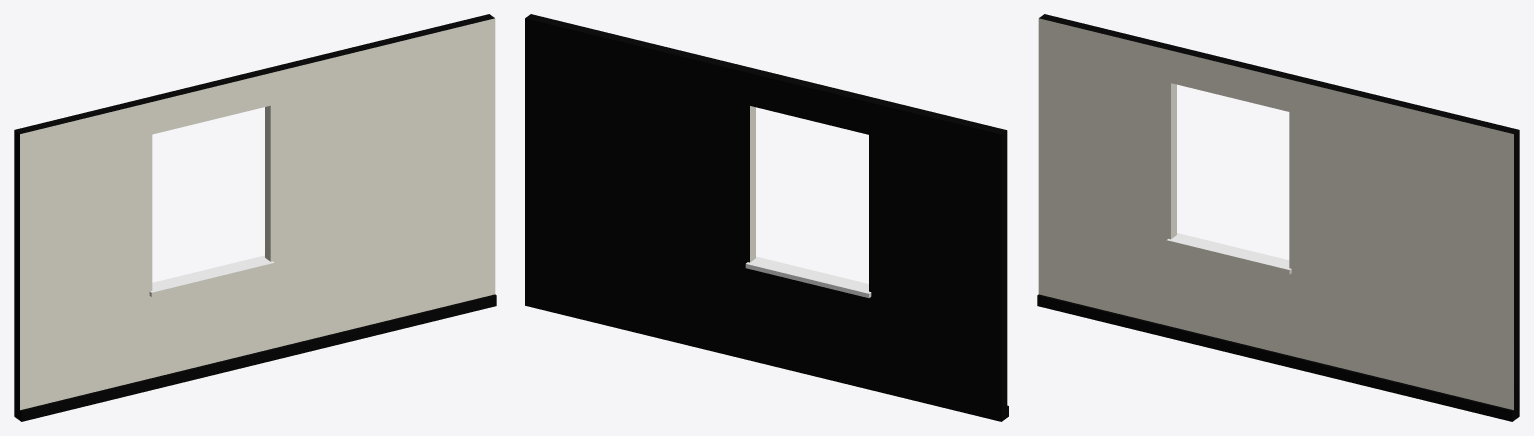
The model's file is Wall 4.FBX.
The picture shows the model from 3 angles, left to right: view 1: azimuth 30°, elevation 25°; view 2: azimuth 150°, elevation 25°; view 3: azimuth 330°, elevation 25°; orthographic projection.
Parts seen in each view (by area): view 1: Wall 4; view 2: Wall 4; view 3: Wall 4.
Part boxes in pixels (x1,y1,x2,y2): Wall 4: (14, 14, 496, 421); Wall 4: (525, 14, 1008, 421); Wall 4: (1037, 14, 1519, 421).
Size of the model in its own units: 418 by 241 by 15.28.
Materials: 2 (1 with a texture image).
